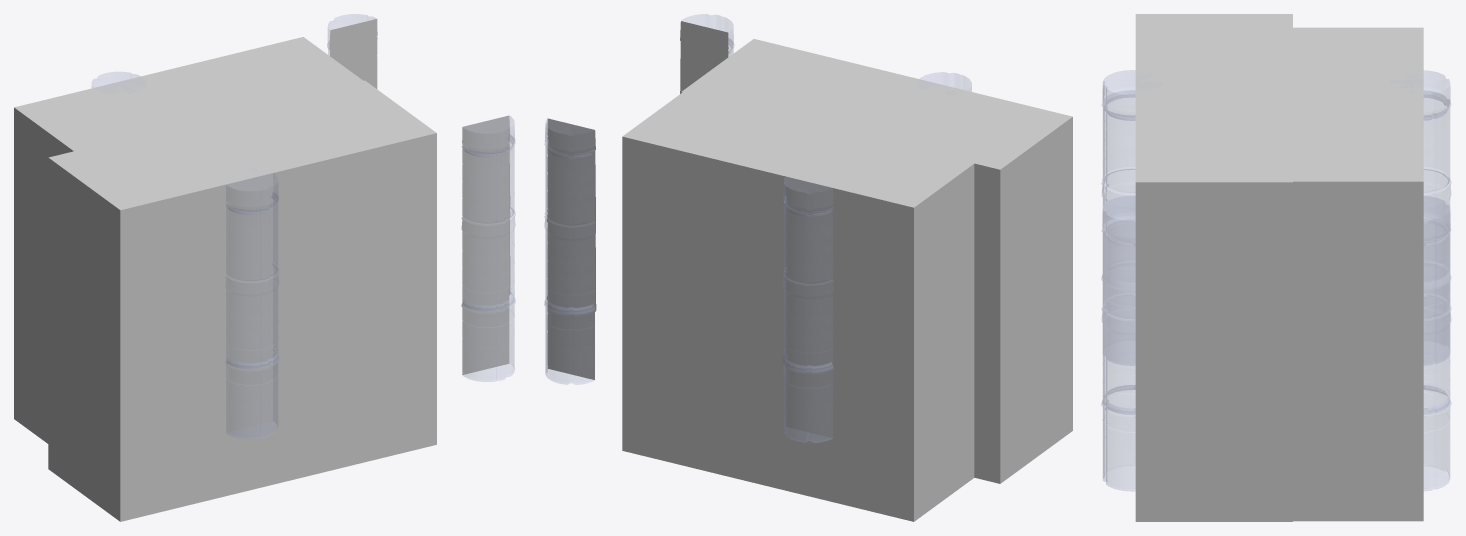
The model's file is rainstick_sliced_half.fbx.
3 renders of one model, left to right at view 1: azimuth 30°, elevation 25°; view 2: azimuth 150°, elevation 25°; view 3: azimuth 270°, elevation 25°, orthographic. The views are drawn at different scales.
Visible parts, largest first — view 1: pasted__pCube1 (×2), pasted__polySurface13 (×2), pasted__cylinder_Body2 (×2); view 2: pasted__pCube1 (×2), pasted__polySurface13 (×2), pasted__cylinder_Body2 (×2); view 3: pasted__pCube1 (×2), pasted__polySurface13 (×2), pasted__cylinder_Body2 (×2).
Part boxes in pixels (x1,y1,x2,y2): pasted__pCube1 (×2): (14, 37, 436, 521); pasted__polySurface13 (×2): (327, 14, 515, 381); pasted__cylinder_Body2 (×2): (92, 72, 279, 439); pasted__pCube1 (×2): (622, 39, 1072, 521); pasted__polySurface13 (×2): (544, 14, 734, 384); pasted__cylinder_Body2 (×2): (782, 72, 971, 442); pasted__pCube1 (×2): (1135, 14, 1423, 521); pasted__polySurface13 (×2): (1101, 196, 1451, 491); pasted__cylinder_Body2 (×2): (1101, 70, 1451, 365).
Size of the model in its own units: 16.34 by 12.47 by 11.66.
